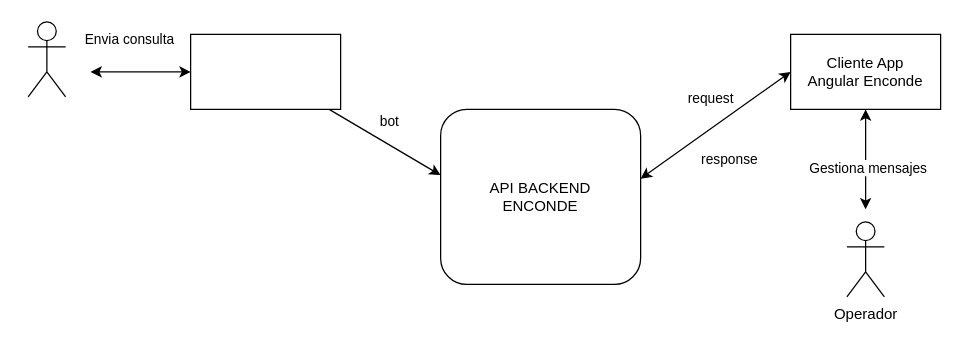
Some shapes in this 963 by 345 pixel diagram are drawn without their labels. Each missing label, with the centre of its shape:
"Cliente Telegram" goes at [265,71].
"Usuario" goes at [46,59].
